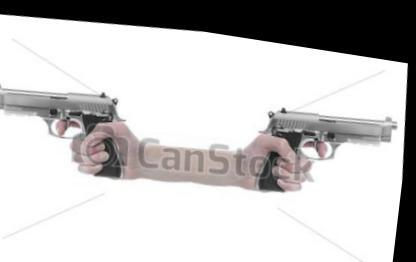pistol: (254, 86, 402, 195), (0, 70, 134, 182)
